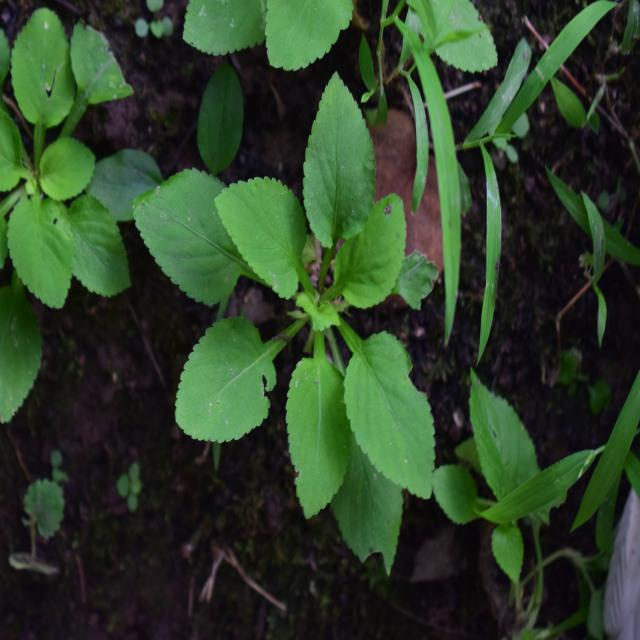Viola: (138, 72, 432, 543), (0, 14, 170, 352)
